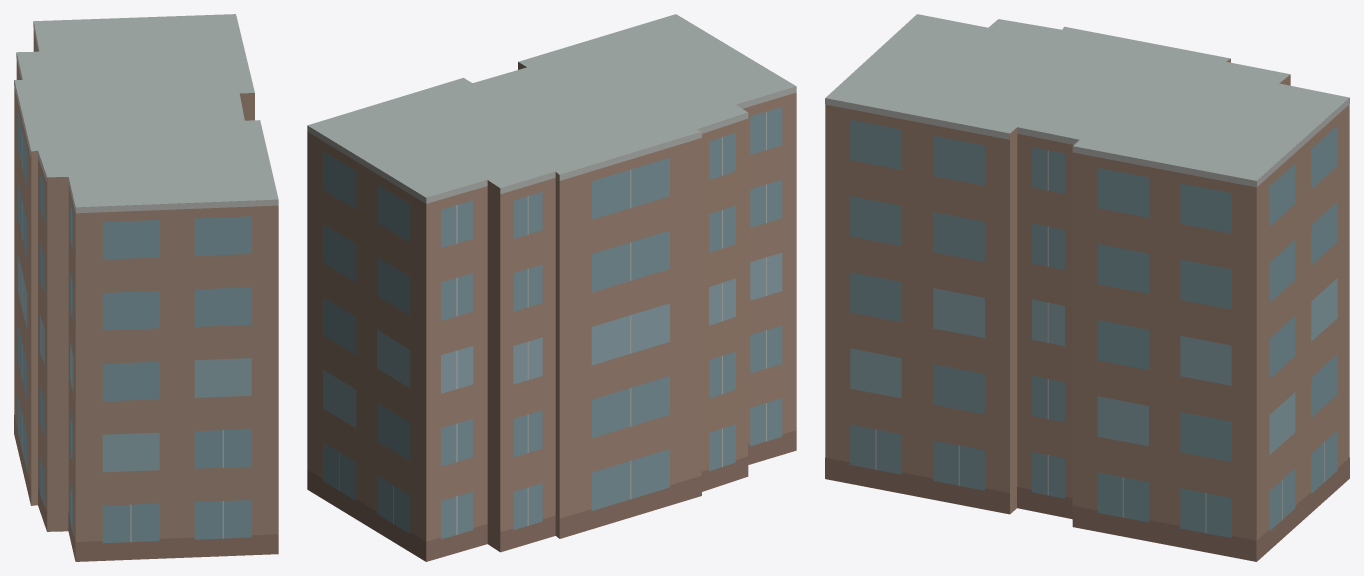
Rendered from survey-upis-32638378.glb.
3 views of the same model, side by side, from view 1: azimuth 30°, elevation 25°; view 2: azimuth 150°, elevation 25°; view 3: azimuth 270°, elevation 25° (orthographic). The views are drawn at different scales.
Parts seen in each view (by area): view 1: survey-upis-32638378.tmp; view 2: survey-upis-32638378.tmp; view 3: survey-upis-32638378.tmp.
Part boxes in pixels (<box>): survey-upis-32638378.tmp: <box>14,14,278,561</box>; survey-upis-32638378.tmp: <box>307,14,796,561</box>; survey-upis-32638378.tmp: <box>825,14,1349,561</box>.
Size of the model in its own units: 13.64 by 14.5 by 18.11.
